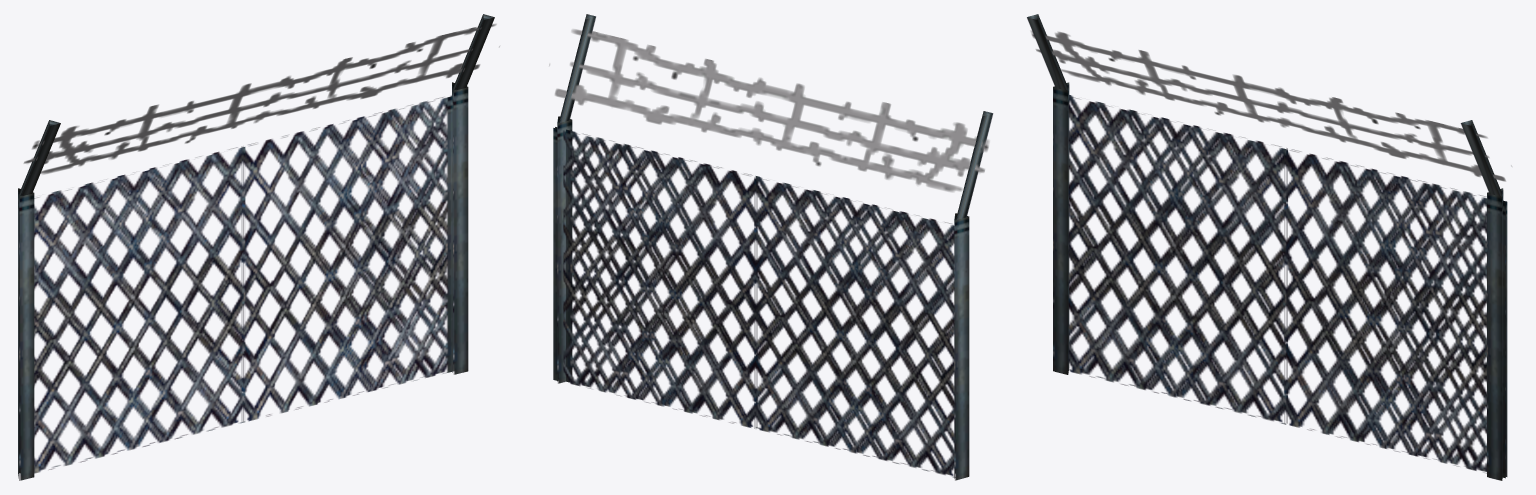
File: Environment - Prop - Chain Link Fence 01 - PMWallChn5.glb
The picture shows the model from 3 angles, left to right: view 1: azimuth 30°, elevation 25°; view 2: azimuth 150°, elevation 25°; view 3: azimuth 330°, elevation 25°; orthographic projection. The views are drawn at different scales.
Visible parts, largest first — view 1: PMWALLCHN5; view 2: PMWALLCHN5; view 3: PMWALLCHN5.
Part boxes in pixels (left/top/right/bottom): PMWALLCHN5: left=18, top=14, right=499, bottom=480; PMWALLCHN5: left=549, top=14, right=993, bottom=480; PMWALLCHN5: left=1027, top=14, right=1511, bottom=480.
Bounding box in the file's own units: 30.06 × 22.65 × 4.11.
2 materials, 2 textured.
